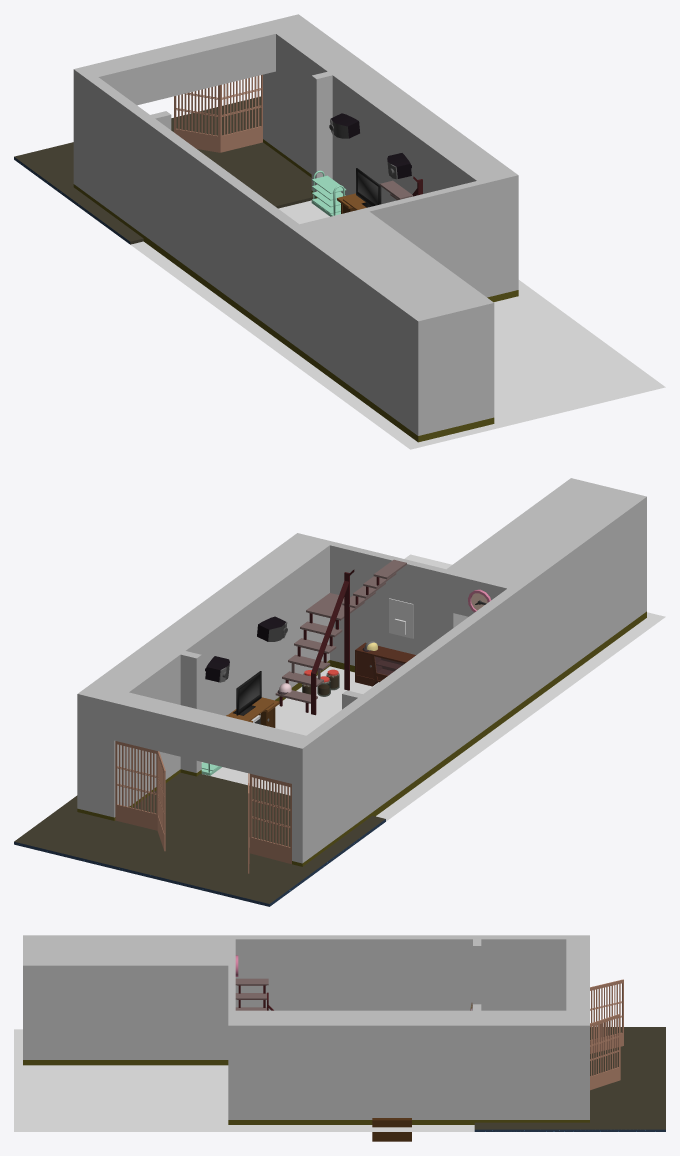
File: Home.fbx
3 views of the same model, one above another, from view 1: azimuth 30°, elevation 25°; view 2: azimuth 150°, elevation 25°; view 3: azimuth 270°, elevation 25° (orthographic). The views are drawn at different scales.
Visible parts, largest first — view 1: Cube, Plane, Cube.023, Cube.036, Cube.032, Cube.013; view 2: Cube, Plane, Cube.023, Cube.041, Cube.042, Cube.031, Cube.036, Cube.043, Cube.013, Cube.048; view 3: Cube, Plane, Cube.023, Cube.009, Cube.043.
Boxes of the visible parts, x1,y1,x2,y2 form: Cube: (73, 14, 518, 442); Plane: (14, 96, 665, 449); Cube.023: (174, 74, 262, 152); Cube.036: (329, 113, 411, 179); Cube.032: (312, 175, 346, 213); Cube.013: (356, 168, 381, 207); Cube: (77, 478, 646, 866); Plane: (14, 554, 665, 906); Cube.023: (115, 741, 291, 873); Cube.041: (275, 593, 364, 712); Cube.042: (311, 569, 354, 715); Cube.031: (355, 642, 415, 686); Cube.036: (205, 616, 287, 682); Cube.043: (342, 559, 406, 608); Cube.013: (233, 671, 261, 715); Cube.048: (389, 598, 413, 638); Cube: (23, 935, 589, 1124); Plane: (14, 1027, 665, 1131); Cube.023: (590, 979, 623, 1090); Cube.009: (372, 1118, 411, 1141); Cube.043: (235, 978, 268, 1010).
Bounding box in the file's own units: 1219 × 638 × 3274.
